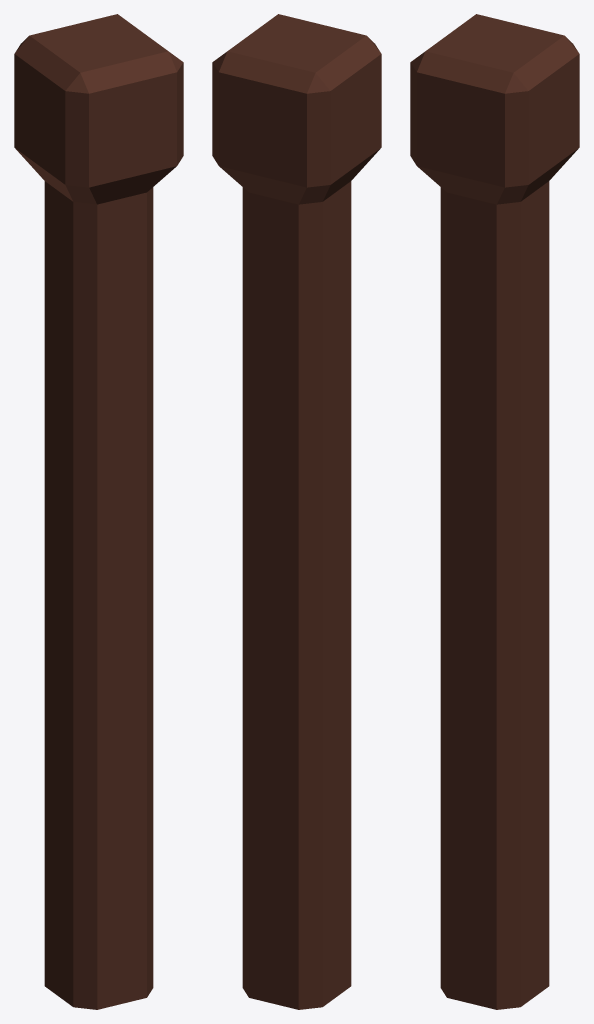
Rendered from Post.glb.
The picture shows the model from 3 angles, left to right: view 1: azimuth 30°, elevation 25°; view 2: azimuth 150°, elevation 25°; view 3: azimuth 330°, elevation 25°; orthographic projection.
Visible parts, largest first — view 1: Post; view 2: Post; view 3: Post.
Boxes of the visible parts, x1,y1,x2,y2 form: Post: [14, 14, 183, 1009]; Post: [212, 14, 381, 1009]; Post: [410, 14, 579, 1009].
Size of the model in its own units: 13.11 by 99.99 by 13.11.
